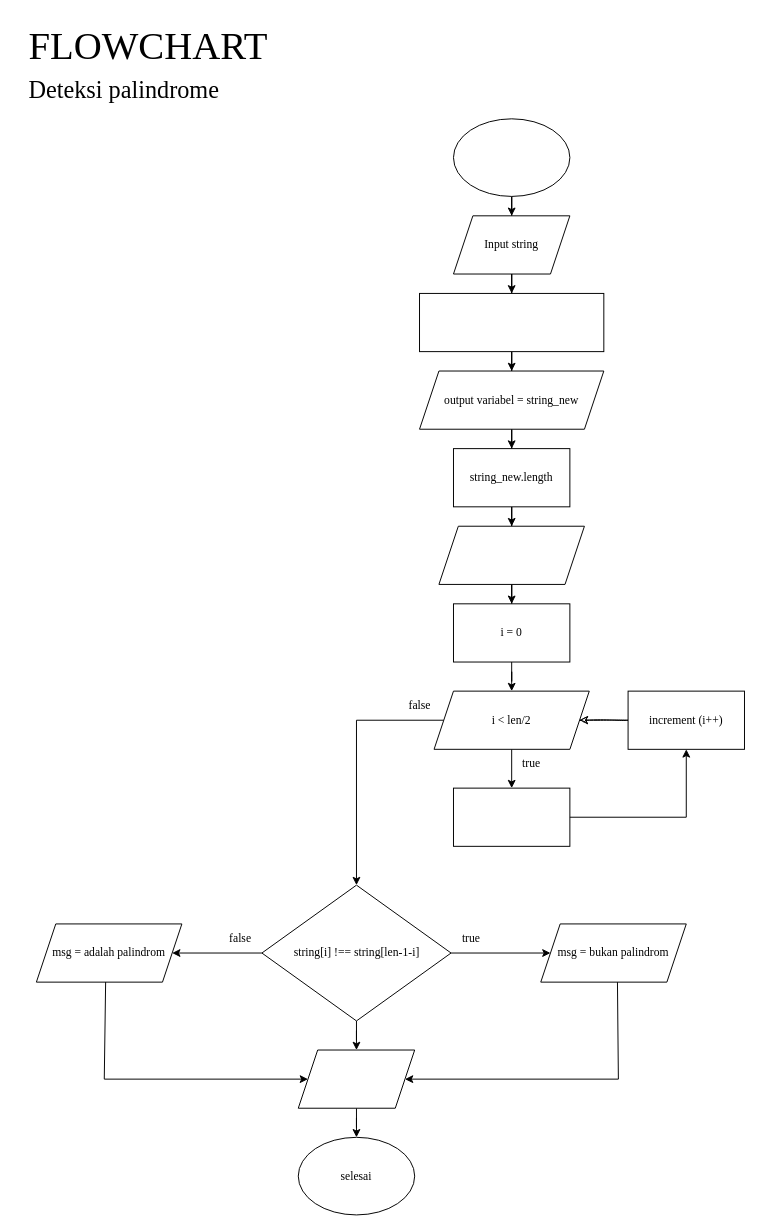
This 761x1232 diagram has some shape labels left out. The shapes that lost their labels are listed below. From the top down, each one's centre as x and y in pixels, then its label:
(x=511, y=157): Mulai
(x=511, y=322): string.replace().toLowerCase()
(x=511, y=554): output variabel = len
(x=511, y=816): statement
(x=356, y=1078): Output hasil
